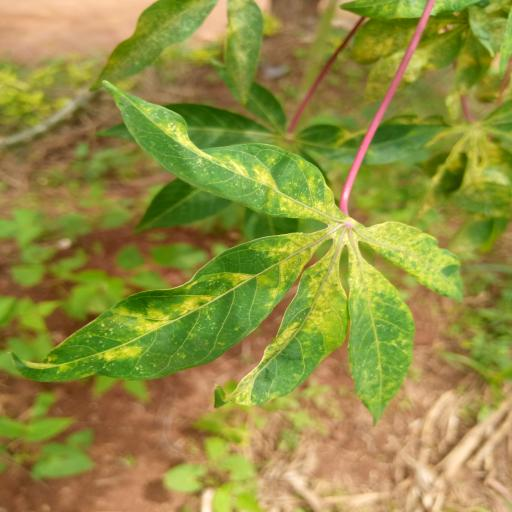Cassava_Mosaic: (11, 69, 473, 434)
